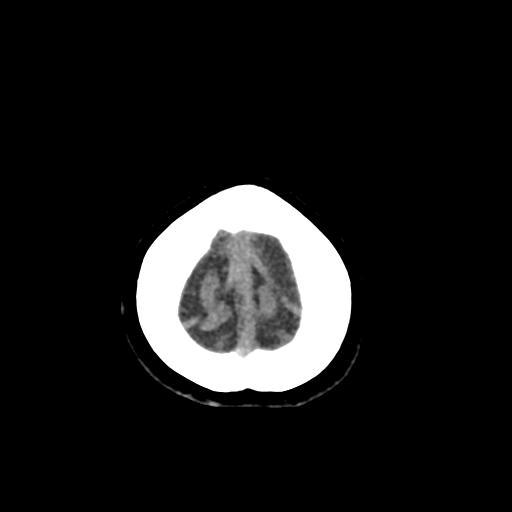Normal_Brain: (57, 92, 499, 512)
